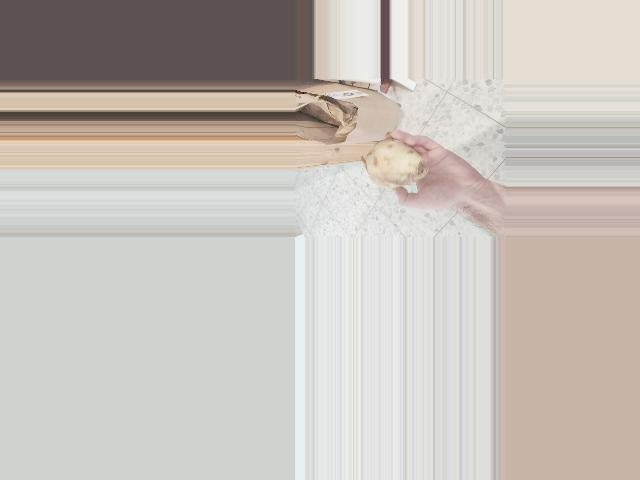onion: (361, 133, 431, 191)
